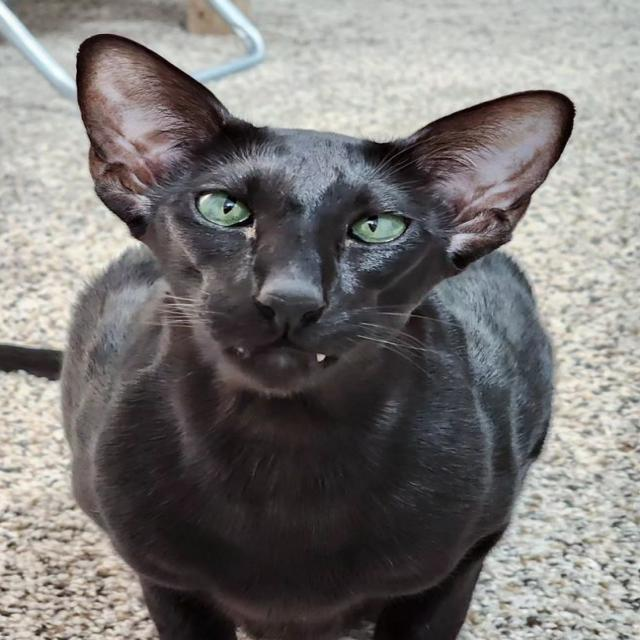Oriental: (50, 31, 580, 640)
